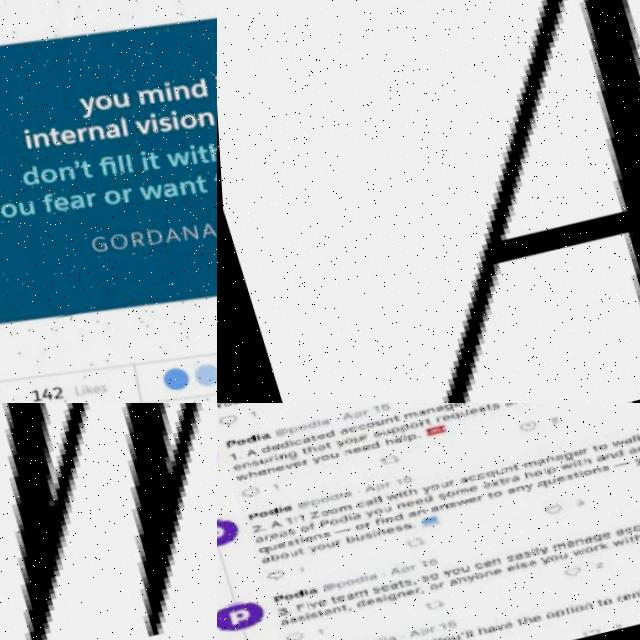1: (20, 385, 36, 401), (223, 452, 231, 459), (265, 483, 273, 490), (388, 477, 396, 484), (291, 514, 299, 521), (279, 516, 286, 523), (309, 626, 316, 633), (368, 405, 374, 412), (413, 560, 420, 566), (432, 622, 438, 629), (245, 411, 250, 417), (291, 566, 296, 572)
2: (42, 383, 58, 400), (244, 524, 255, 532), (587, 559, 596, 567), (544, 415, 554, 422), (606, 621, 615, 628)
3: (570, 497, 579, 505), (270, 607, 279, 615)
4: (31, 384, 47, 401)
5: (396, 474, 407, 482), (439, 619, 450, 627), (374, 403, 386, 410), (422, 557, 431, 565)
A: (234, 0, 640, 403), (239, 447, 252, 456), (357, 482, 370, 491), (263, 518, 276, 527), (336, 411, 348, 419), (400, 628, 412, 636), (382, 566, 393, 574), (589, 453, 601, 460), (276, 504, 287, 511), (300, 586, 311, 593), (273, 617, 282, 625), (255, 432, 265, 439), (310, 443, 320, 450), (453, 475, 463, 482), (531, 456, 541, 463), (617, 435, 627, 442), (248, 535, 258, 542), (254, 556, 264, 563), (338, 592, 348, 599), (476, 558, 486, 565), (316, 418, 325, 425), (296, 436, 305, 443), (334, 427, 343, 434), (412, 408, 421, 415), (431, 404, 440, 411), (337, 490, 346, 497), (358, 497, 367, 504), (548, 452, 557, 459), (271, 529, 280, 536), (346, 512, 355, 519), (505, 474, 514, 481), (622, 445, 631, 452), (401, 509, 410, 516), (423, 504, 432, 511), (501, 485, 510, 492), (361, 572, 370, 579), (382, 581, 391, 588), (507, 551, 516, 558), (559, 538, 568, 545), (578, 534, 587, 541), (608, 527, 617, 534), (315, 608, 324, 615), (441, 577, 450, 584), (379, 633, 388, 640), (479, 624, 488, 631), (499, 403, 508, 405)
B: (339, 534, 350, 542), (262, 552, 273, 560)
C: (460, 472, 472, 480), (349, 500, 360, 507), (625, 522, 636, 529), (351, 423, 361, 430), (467, 561, 477, 568), (288, 438, 297, 445), (343, 425, 352, 432), (471, 471, 480, 478), (617, 524, 626, 531)
D: (364, 439, 376, 448), (416, 493, 428, 502), (240, 434, 251, 443), (285, 589, 297, 597), (319, 428, 330, 436), (261, 506, 272, 514), (346, 574, 357, 582), (301, 420, 311, 428), (331, 514, 341, 522), (255, 444, 264, 452), (274, 440, 283, 448), (323, 491, 332, 499), (608, 447, 617, 455), (387, 512, 396, 520), (348, 598, 357, 606), (365, 636, 374, 640)
E: (226, 463, 238, 470), (371, 583, 383, 590), (251, 469, 262, 476), (269, 464, 280, 471), (355, 443, 366, 450), (388, 436, 399, 443), (495, 620, 506, 627), (462, 494, 471, 502), (486, 566, 495, 574), (265, 443, 275, 450), (436, 413, 446, 420), (408, 496, 418, 503), (527, 468, 537, 475), (269, 541, 279, 548), (550, 473, 560, 480), (328, 593, 338, 600), (498, 552, 508, 559), (500, 563, 510, 570), (524, 613, 534, 620), (287, 460, 297, 467), (311, 432, 320, 439), (463, 407, 472, 414), (347, 446, 356, 453), (567, 447, 576, 454), (263, 532, 272, 539), (399, 499, 408, 506), (462, 484, 471, 491), (476, 480, 485, 487), (379, 526, 388, 533), (309, 598, 318, 605), (596, 529, 605, 536), (358, 597, 367, 604), (398, 588, 407, 595), (521, 559, 530, 566), (616, 591, 625, 598), (634, 519, 640, 527), (446, 403, 458, 406)
F: (288, 602, 297, 611), (302, 522, 309, 529), (368, 517, 374, 524)
G: (379, 592, 390, 600), (586, 531, 595, 540), (558, 451, 568, 459), (438, 403, 450, 409), (283, 450, 292, 458)
H: (302, 444, 312, 452), (577, 455, 587, 463), (627, 531, 637, 539), (469, 625, 479, 633), (243, 469, 252, 477), (379, 437, 388, 445), (402, 486, 411, 494), (519, 469, 528, 477), (516, 614, 525, 621)
I: (250, 433, 255, 440), (311, 419, 316, 426), (567, 458, 572, 465), (292, 536, 297, 543), (573, 468, 578, 475), (297, 601, 302, 608), (284, 438, 288, 446), (332, 490, 336, 498), (357, 573, 362, 579), (272, 504, 276, 511), (391, 490, 395, 497), (341, 513, 345, 520), (374, 516, 378, 523), (366, 529, 370, 536), (296, 588, 300, 595), (524, 546, 528, 553), (298, 612, 302, 619), (375, 593, 379, 600), (617, 534, 621, 541), (268, 454, 272, 460), (375, 635, 379, 640), (563, 604, 566, 609)
K: (630, 431, 640, 439), (593, 540, 600, 547)
L: (460, 628, 465, 634), (397, 433, 401, 440), (367, 495, 371, 502), (371, 494, 375, 501), (627, 433, 631, 440), (537, 466, 541, 472), (528, 545, 531, 551), (458, 629, 461, 635), (509, 562, 512, 567)
M: (448, 485, 464, 494), (624, 587, 640, 596), (398, 410, 414, 418), (331, 503, 347, 511), (544, 540, 560, 548), (516, 458, 531, 466), (346, 589, 361, 597)
N: (585, 464, 597, 472), (272, 452, 283, 459), (306, 532, 317, 539), (409, 507, 420, 514), (631, 442, 640, 450), (370, 527, 379, 535), (540, 454, 550, 461), (378, 515, 388, 522), (509, 483, 519, 490), (389, 590, 399, 597), (379, 416, 388, 423), (422, 406, 431, 413), (236, 461, 245, 468), (261, 466, 270, 473), (338, 448, 347, 455), (498, 464, 507, 471), (390, 501, 399, 508), (600, 451, 609, 458), (433, 502, 442, 509), (484, 556, 493, 563), (568, 536, 577, 543), (324, 605, 333, 612), (451, 575, 460, 582), (476, 569, 485, 576), (576, 600, 585, 607)
O: (366, 506, 378, 514), (403, 421, 415, 428), (271, 551, 283, 558), (275, 592, 287, 599), (595, 595, 605, 603), (230, 438, 241, 445), (338, 437, 349, 444), (315, 453, 326, 460), (251, 510, 262, 517), (293, 524, 304, 531), (322, 517, 333, 524), (348, 522, 359, 529), (422, 571, 431, 579), (432, 634, 444, 640), (313, 495, 323, 502), (313, 508, 323, 515), (577, 467, 587, 474), (421, 582, 431, 589), (292, 423, 301, 430), (361, 420, 370, 427), (323, 506, 332, 513), (424, 482, 433, 489), (479, 469, 488, 476), (593, 441, 602, 448), (440, 489, 449, 496), (297, 534, 306, 541), (487, 488, 496, 495), (310, 542, 319, 549), (338, 578, 347, 585), (444, 566, 453, 573), (468, 571, 477, 578), (542, 553, 551, 560), (577, 544, 586, 551), (538, 610, 547, 617), (567, 603, 576, 610), (217, 403, 227, 406), (637, 452, 640, 459), (637, 585, 640, 592)
P: (328, 580, 339, 589), (282, 426, 294, 434), (242, 511, 253, 519), (266, 594, 277, 602), (220, 440, 232, 447), (369, 482, 379, 490), (547, 608, 557, 616), (386, 425, 395, 433), (395, 423, 404, 431), (402, 432, 411, 440), (541, 465, 550, 473), (394, 565, 403, 573), (412, 627, 421, 635), (314, 518, 323, 526), (304, 498, 314, 505), (348, 411, 357, 418)
Q: (444, 411, 456, 419), (251, 546, 262, 554), (532, 478, 541, 486)
R: (499, 475, 506, 482), (421, 625, 429, 631), (357, 408, 365, 414), (414, 419, 421, 425), (576, 446, 583, 452), (328, 538, 335, 544), (431, 581, 438, 587), (586, 543, 593, 549), (403, 563, 410, 569), (609, 593, 616, 599), (263, 456, 269, 462), (357, 433, 363, 439), (431, 415, 437, 421), (297, 459, 303, 465), (443, 478, 449, 484), (471, 493, 477, 499), (407, 586, 413, 592), (379, 480, 385, 486), (358, 520, 364, 526), (257, 534, 262, 540)
S: (367, 429, 377, 437), (289, 613, 299, 621), (314, 530, 325, 537), (594, 463, 605, 470), (363, 584, 372, 592), (301, 611, 310, 619), (245, 459, 255, 466), (280, 527, 290, 534), (278, 539, 288, 546), (441, 499, 451, 506), (413, 573, 423, 580), (281, 616, 291, 623), (512, 560, 522, 567), (472, 405, 481, 412), (559, 471, 568, 478), (357, 531, 366, 538), (387, 523, 396, 530), (396, 521, 405, 528), (396, 577, 405, 584), (516, 549, 525, 556), (366, 596, 375, 603), (431, 491, 440, 498), (485, 403, 495, 408)
T: (586, 442, 593, 450), (291, 546, 298, 554), (395, 488, 402, 495), (507, 462, 514, 469), (390, 579, 397, 586), (622, 534, 629, 541), (508, 616, 515, 623), (304, 434, 311, 440), (387, 414, 394, 420), (296, 446, 302, 453), (319, 441, 325, 448), (419, 417, 425, 424), (492, 476, 498, 483), (570, 457, 576, 464), (288, 536, 294, 543), (481, 490, 487, 497), (567, 469, 573, 476), (322, 595, 328, 602), (310, 609, 316, 616), (556, 605, 563, 611), (333, 604, 339, 610), (589, 597, 595, 603), (480, 403, 486, 408)
U: (455, 408, 465, 416), (433, 479, 444, 486), (348, 533, 359, 540), (541, 475, 550, 483), (370, 418, 380, 425), (347, 434, 357, 441), (324, 451, 334, 458), (488, 466, 498, 473), (282, 548, 292, 555), (452, 563, 462, 570), (254, 457, 263, 464), (376, 428, 385, 435), (377, 504, 386, 511), (261, 543, 270, 550), (320, 540, 329, 547), (552, 551, 561, 558), (444, 632, 453, 639)
V: (486, 621, 498, 629), (300, 601, 312, 608), (279, 462, 288, 469)
W: (0, 403, 217, 640), (228, 473, 244, 481), (449, 496, 463, 505), (379, 491, 394, 499), (605, 437, 620, 445), (553, 460, 568, 468), (564, 546, 579, 554), (604, 537, 619, 545)
X: (484, 478, 494, 485)
Y: (416, 484, 426, 493), (329, 439, 339, 447), (306, 455, 316, 463), (358, 509, 368, 517), (628, 455, 638, 463), (301, 545, 311, 553), (436, 568, 446, 576), (519, 481, 528, 489), (532, 545, 541, 553), (459, 573, 468, 581), (534, 556, 543, 564), (424, 635, 435, 640)
Z: (303, 510, 314, 518)
